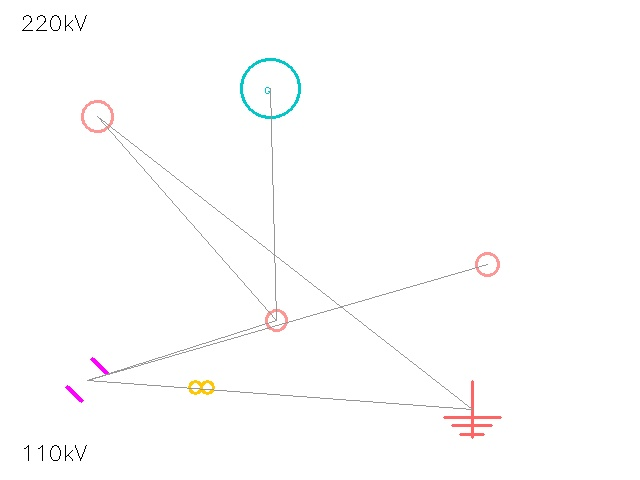capacitor: (55, 348, 119, 412)
current_transformer: (67, 86, 127, 146), (465, 242, 509, 286)
disconnect_switch: (256, 300, 296, 340)
generator: (241, 59, 299, 117)
ground: (444, 381, 500, 437)
transformer_2w: (186, 372, 216, 402)
